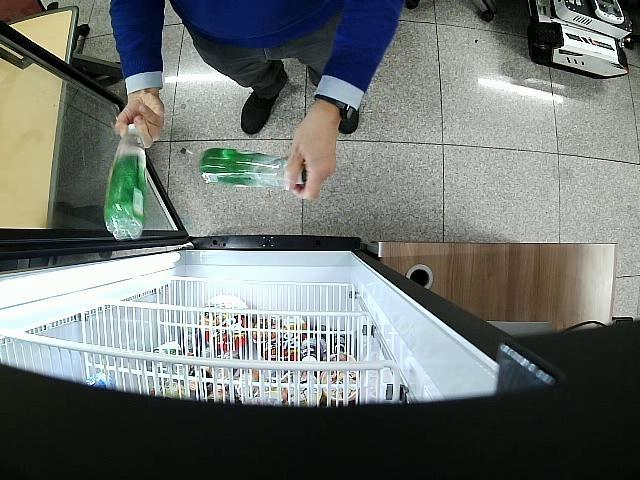18_trevi: (104, 124, 145, 240), (200, 149, 306, 186)
